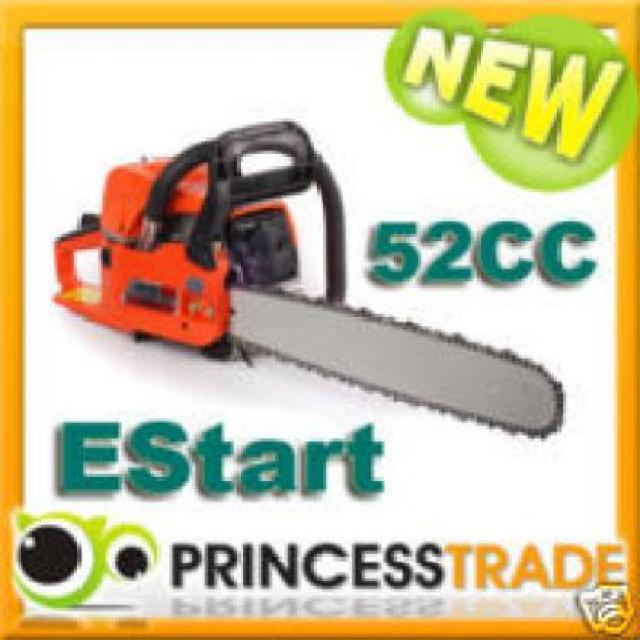Chainsaw: (56, 119, 570, 448)
